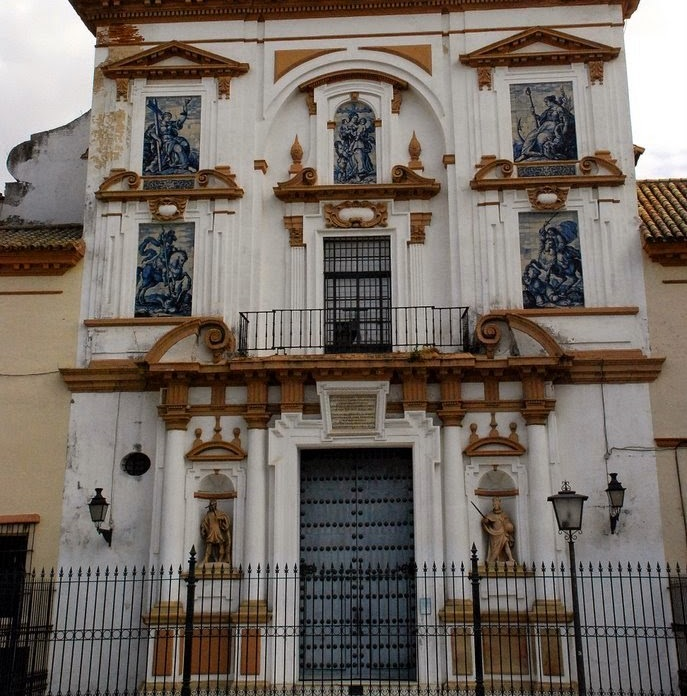fronton: (458, 24, 620, 66), (98, 38, 253, 81)
fronton-curvo: (461, 435, 528, 461), (184, 439, 247, 465)
fronton-partido: (141, 311, 580, 381), (270, 160, 443, 202), (92, 164, 247, 203), (468, 154, 628, 190)
vano-adintelado: (301, 211, 414, 355)
